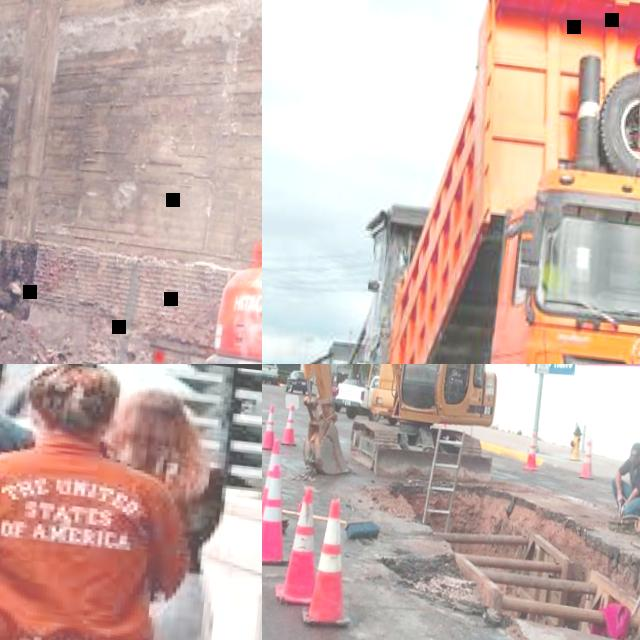NO-Hardhat: (22, 364, 112, 425), (123, 388, 195, 446), (629, 438, 640, 454)
NO-Safety Vest: (0, 437, 169, 640), (117, 454, 216, 569), (622, 459, 640, 497)
Person: (0, 364, 204, 640), (59, 383, 241, 640), (606, 435, 640, 520), (539, 242, 576, 297)
Safety Cone: (300, 494, 362, 630), (272, 482, 324, 604), (262, 464, 298, 566), (262, 436, 297, 530), (278, 403, 300, 448), (577, 436, 598, 480), (521, 431, 541, 471), (262, 404, 279, 450)
Safety Vest: (538, 260, 573, 297)
vehicle: (354, 0, 640, 364), (273, 364, 514, 492), (192, 41, 262, 364), (332, 371, 382, 420), (328, 375, 362, 413), (284, 367, 313, 393), (262, 364, 279, 385)
